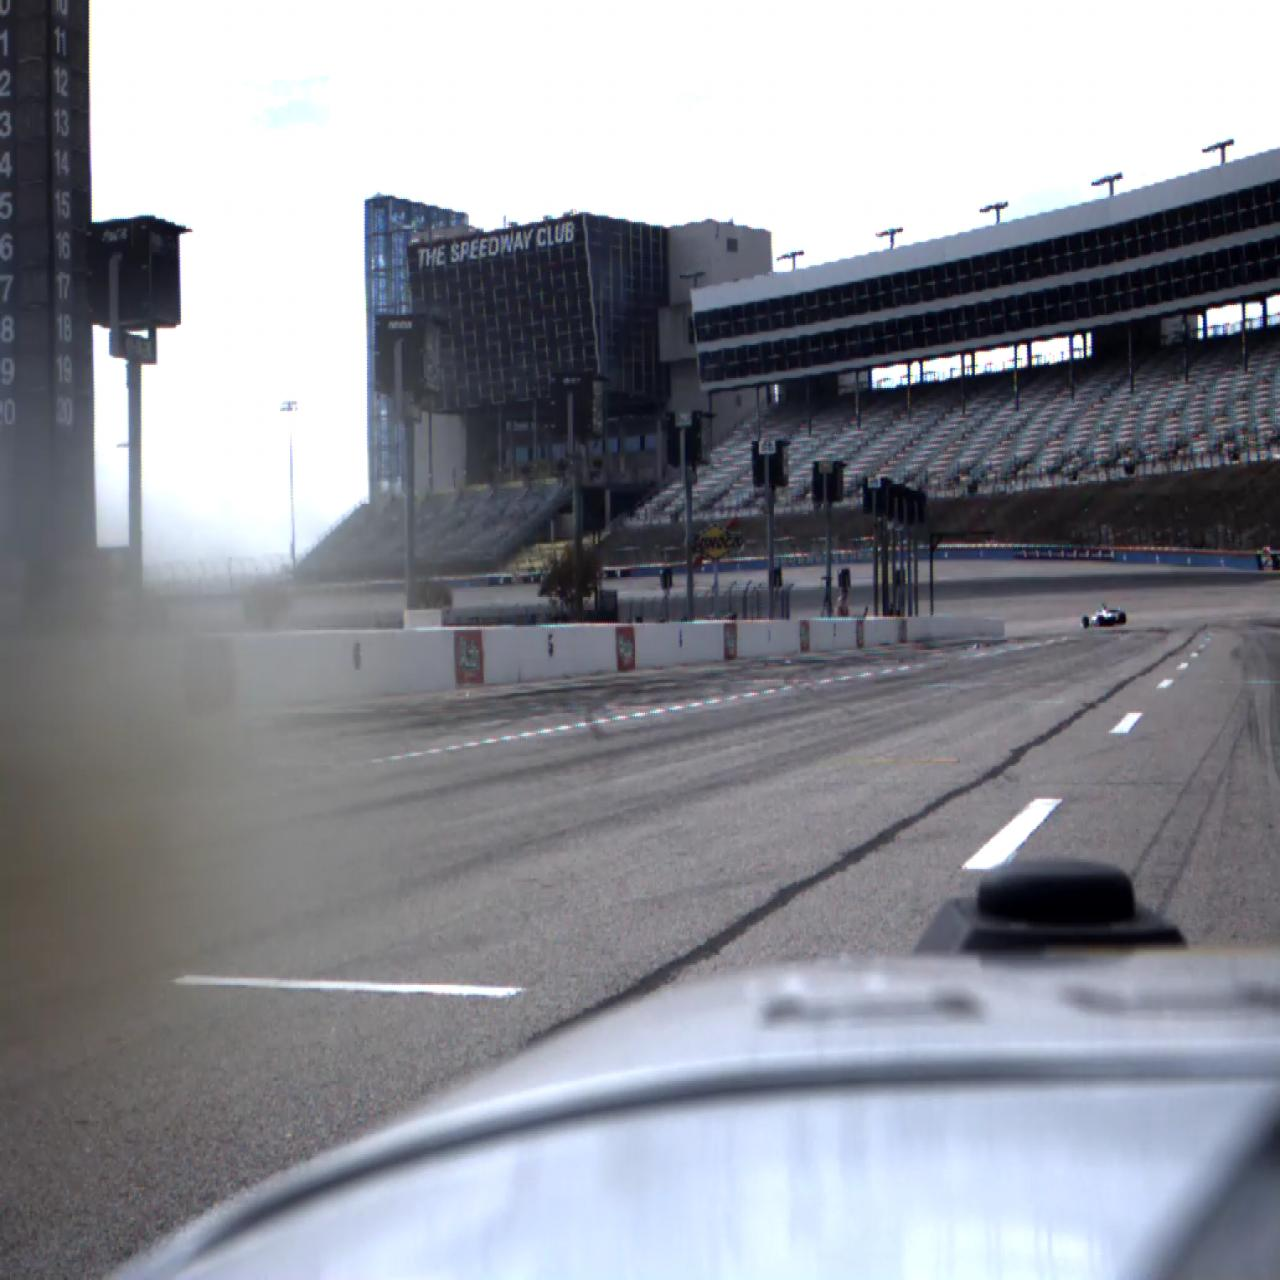AV: (1080, 603, 1126, 629)
Wheel: (1082, 614, 1089, 628), (1118, 612, 1126, 624), (1098, 616, 1104, 628)
